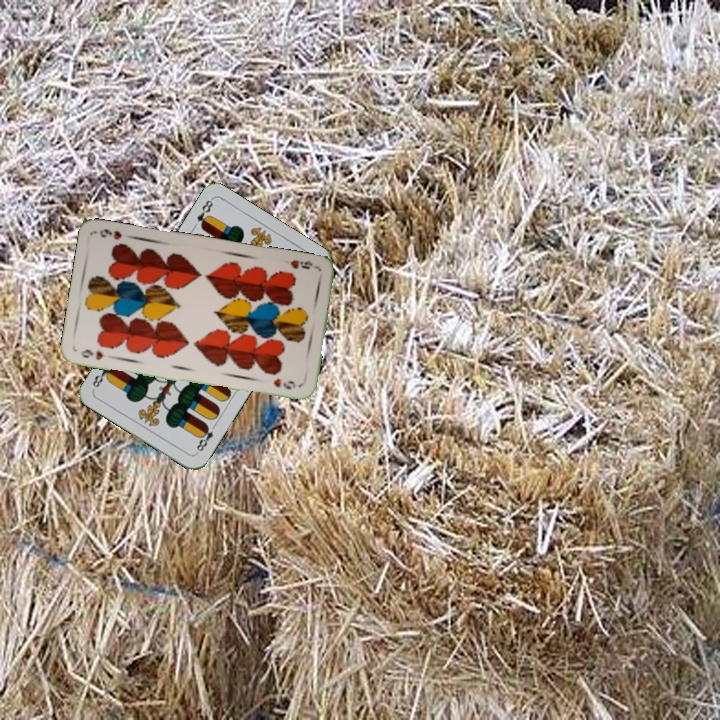E8: (192, 420, 219, 456), (193, 195, 216, 231)
H9: (286, 256, 320, 272), (77, 345, 106, 362)
